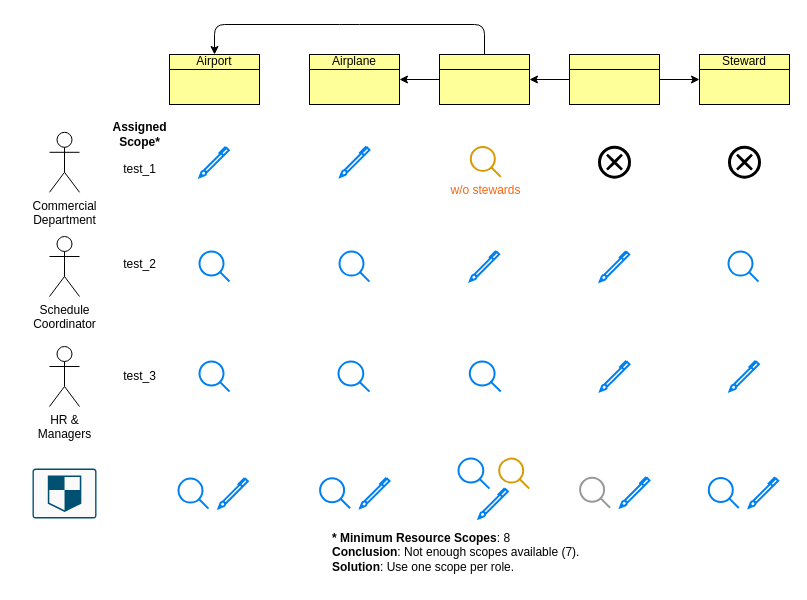
Image size: 807x600. Some labels were removed from this diagram. Each missing label, with the centre of its shape:
"Assignment" belongs at [614,79].
"Flight" belongs at [484,79].
"Resource Scopes" belongs at [64,493].
